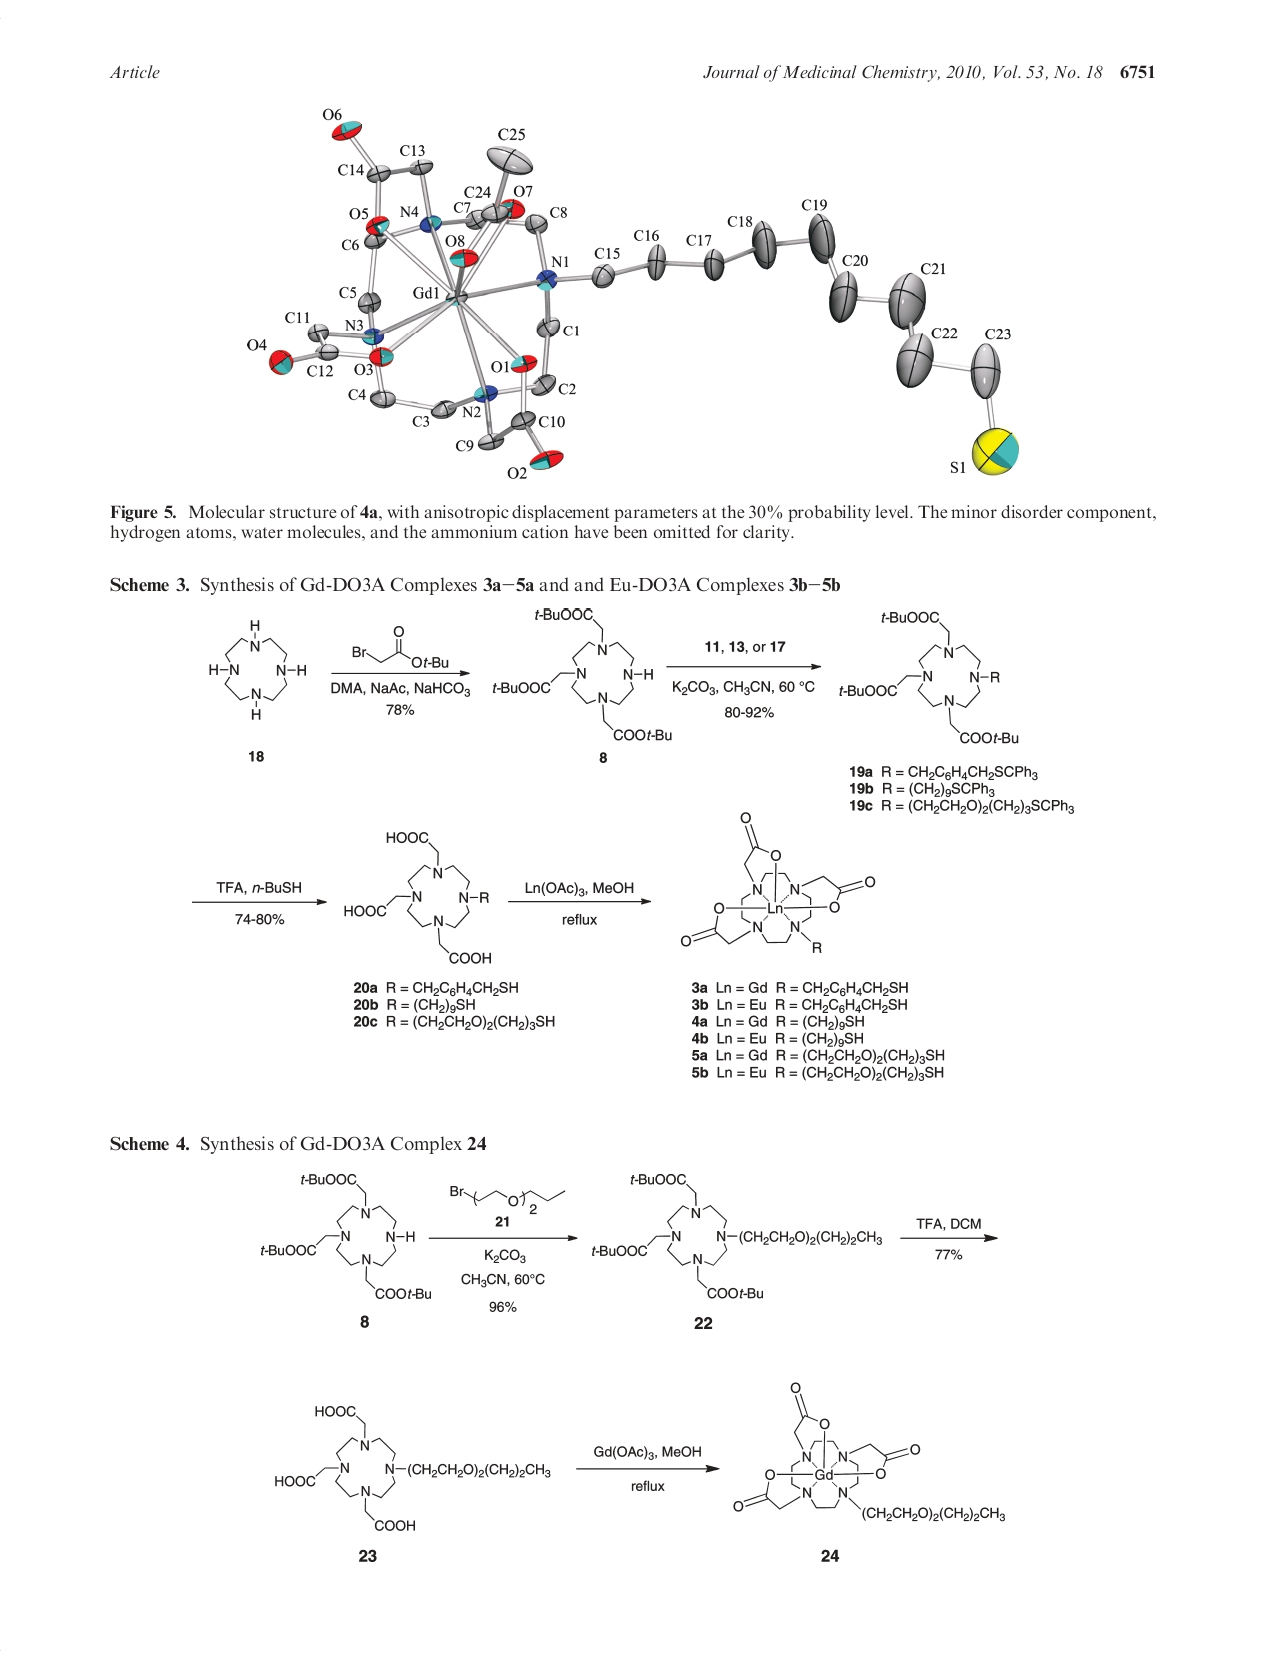exist_molecular: (731, 1380, 1008, 1523), (589, 1172, 884, 1301), (273, 1403, 551, 1532), (680, 813, 875, 956), (491, 605, 674, 739), (838, 609, 1021, 743), (259, 1170, 432, 1301), (342, 829, 493, 965), (206, 617, 306, 722), (351, 622, 451, 668), (449, 1182, 567, 1208)
